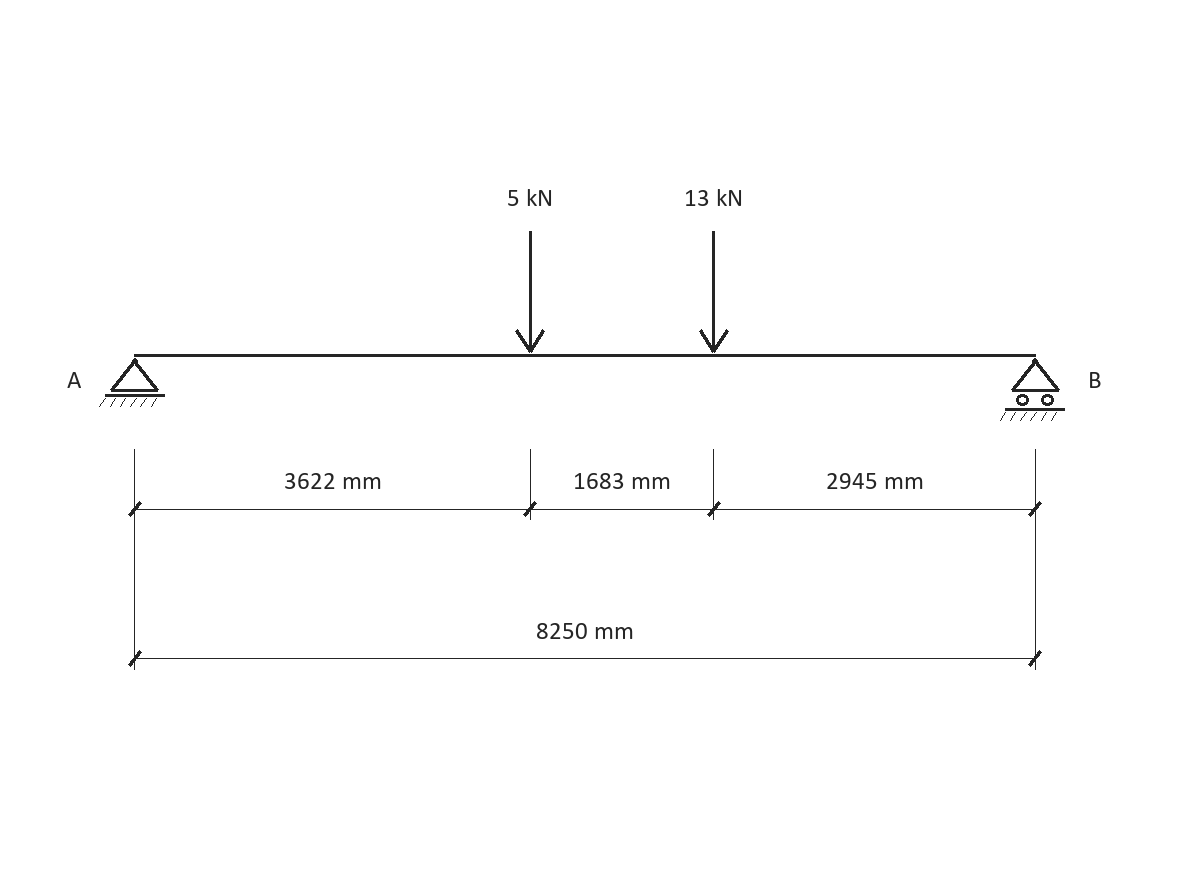pin_support: (99, 358, 165, 407)
point_load: (515, 231, 545, 353), (699, 231, 729, 353)
roller_support: (1000, 358, 1065, 421)
